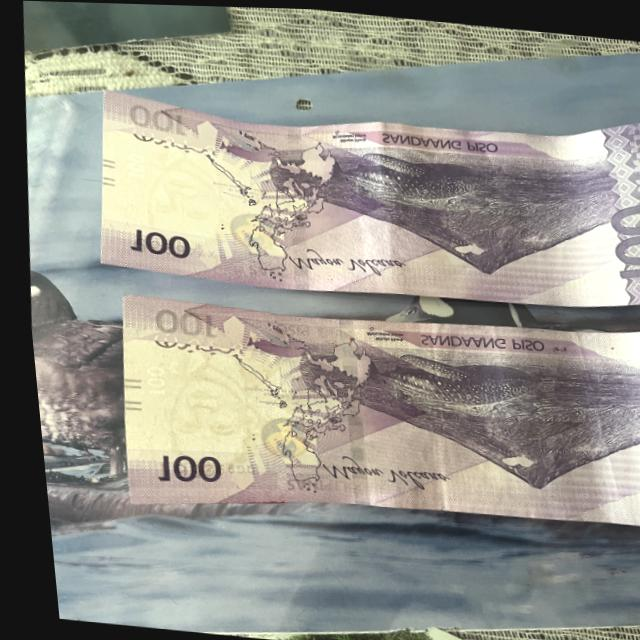100_whale: (322, 330, 546, 422), (295, 133, 507, 221)
100_whale_watermark: (235, 322, 320, 363), (201, 128, 284, 161)
value_watermark: (126, 354, 171, 406), (108, 138, 149, 184)
watermark: (134, 334, 283, 490), (106, 119, 252, 261)
